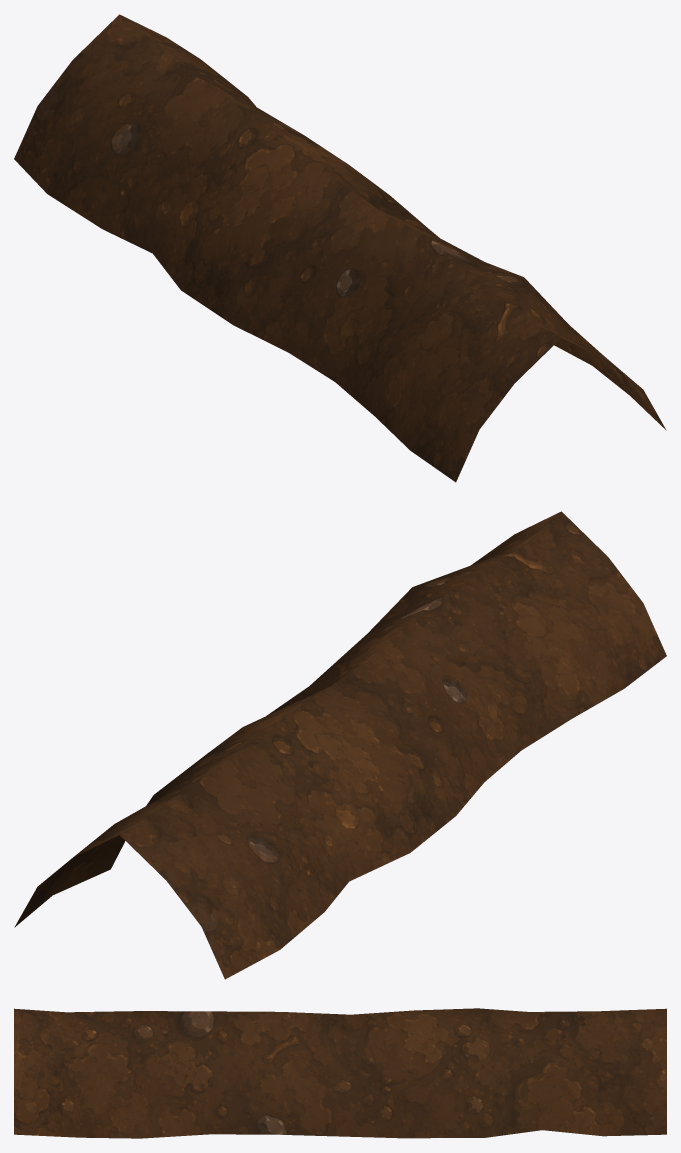
The model's file is Ridge01.fbx.
3 renders of one model, top to bottom at view 1: azimuth 30°, elevation 25°; view 2: azimuth 150°, elevation 25°; view 3: azimuth 270°, elevation 25°, orthographic. The views are drawn at different scales.
Parts seen in each view (by area): view 1: Ridge01_LOD0; view 2: Ridge01_LOD0; view 3: Ridge01_LOD0.
Part boxes in pixels (<box>): Ridge01_LOD0: <box>14,14,666,482</box>; Ridge01_LOD0: <box>14,511,666,979</box>; Ridge01_LOD0: <box>14,1008,666,1138</box>.
Size of what is drawn, in the model's own units: 0.6082 by 0.2971 by 2.
